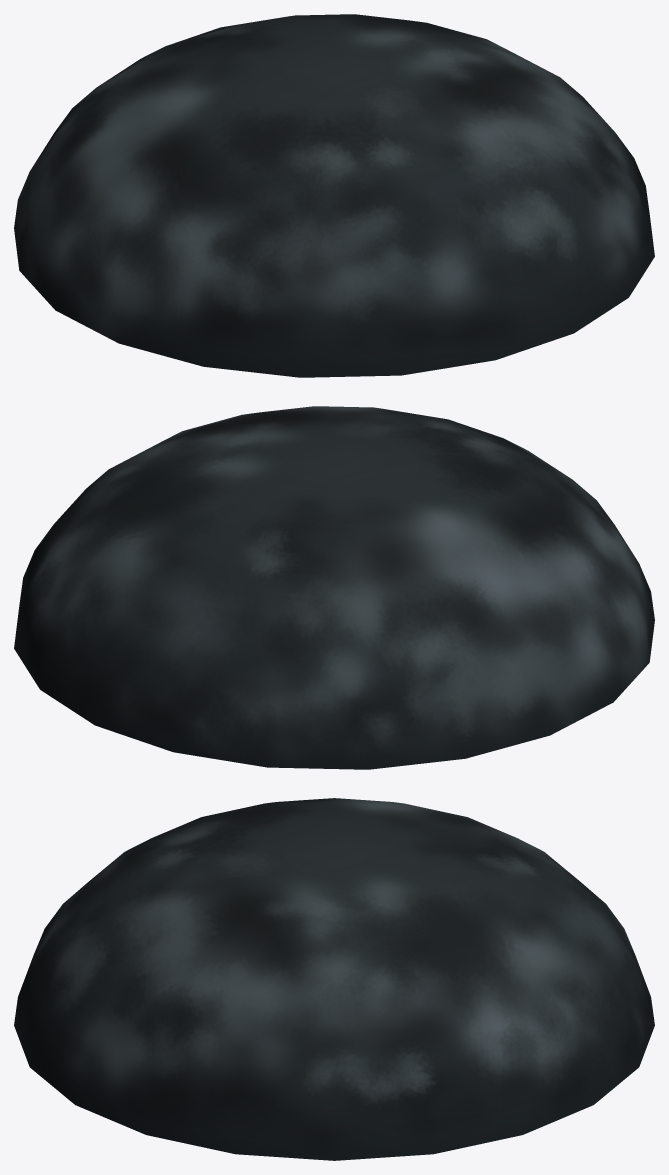
Rendered from Skydome.fbx.
The picture shows the model from 3 angles, top to bottom: view 1: azimuth 30°, elevation 25°; view 2: azimuth 150°, elevation 25°; view 3: azimuth 270°, elevation 25°; orthographic projection.
Visible parts, largest first — view 1: SkydomeSmall; view 2: SkydomeSmall; view 3: SkydomeSmall.
Part boxes in pixels (bbox=[...]): SkydomeSmall: bbox=[14, 14, 654, 377]; SkydomeSmall: bbox=[14, 406, 654, 769]; SkydomeSmall: bbox=[14, 798, 654, 1160].
Bounding box in the file's own units: 4000 × 1193 × 4000.
Materials: 1 (1 with a texture image).
